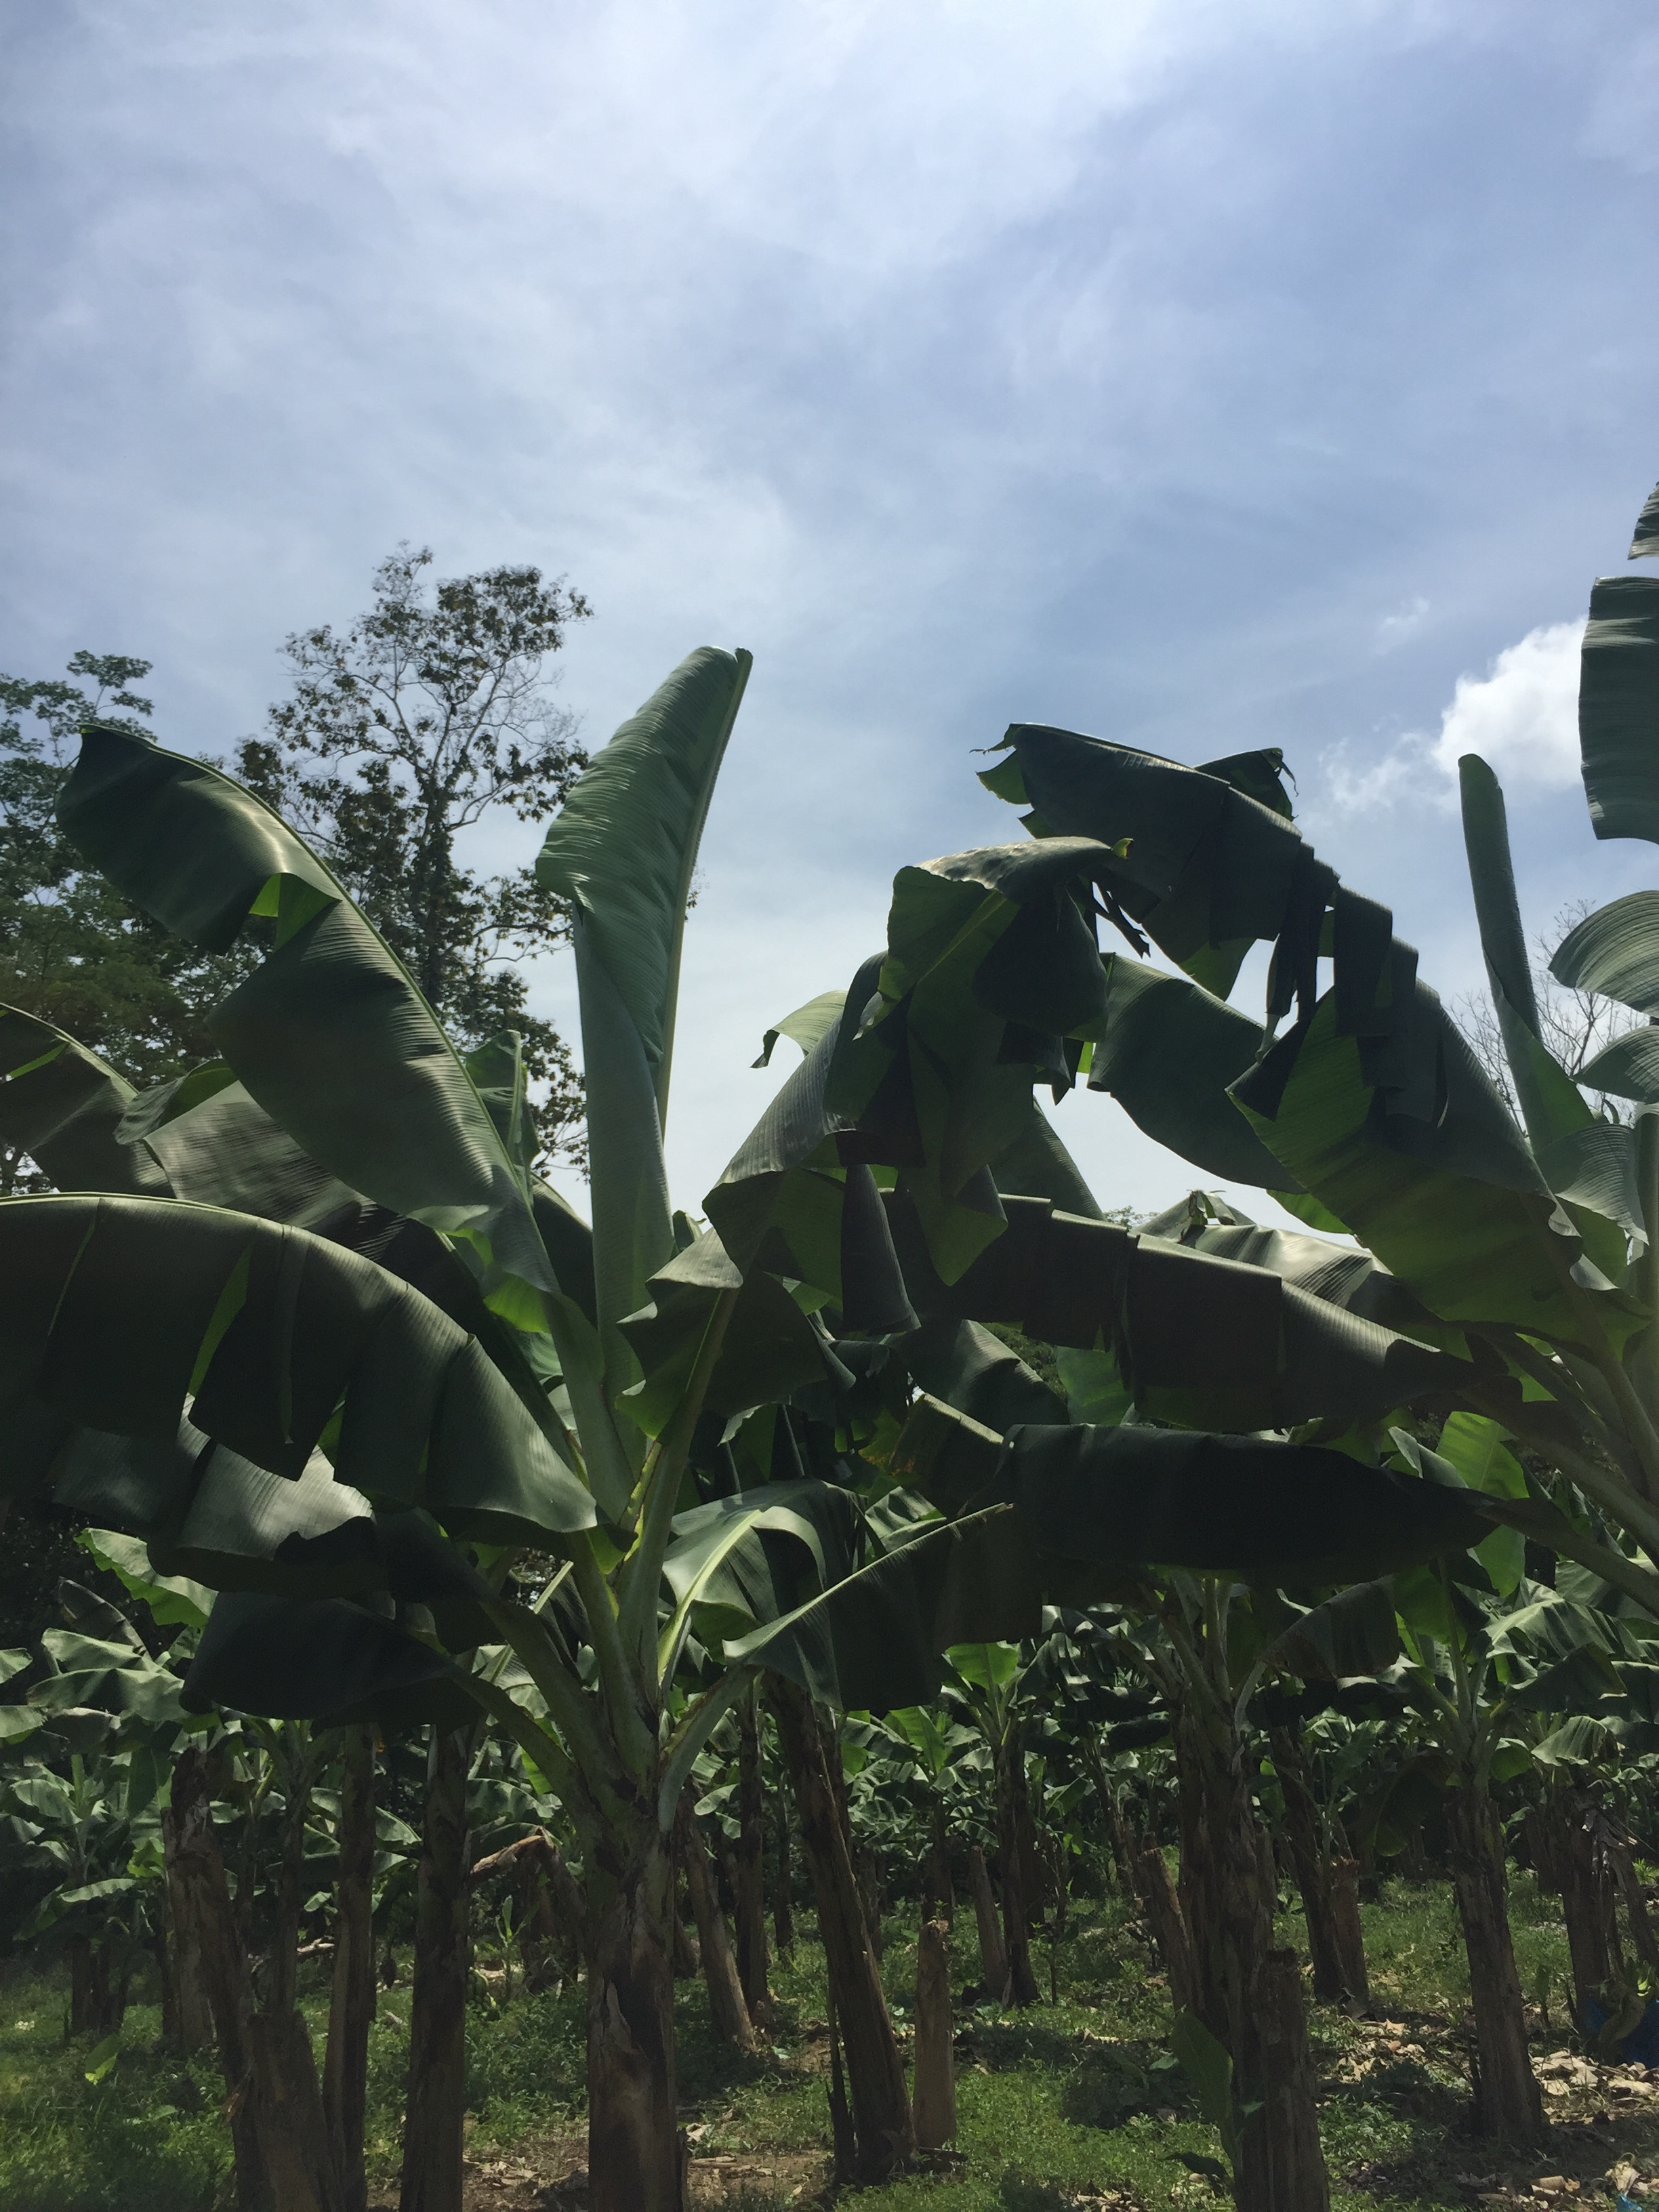candleleafs: (1457, 754, 1596, 1155)
